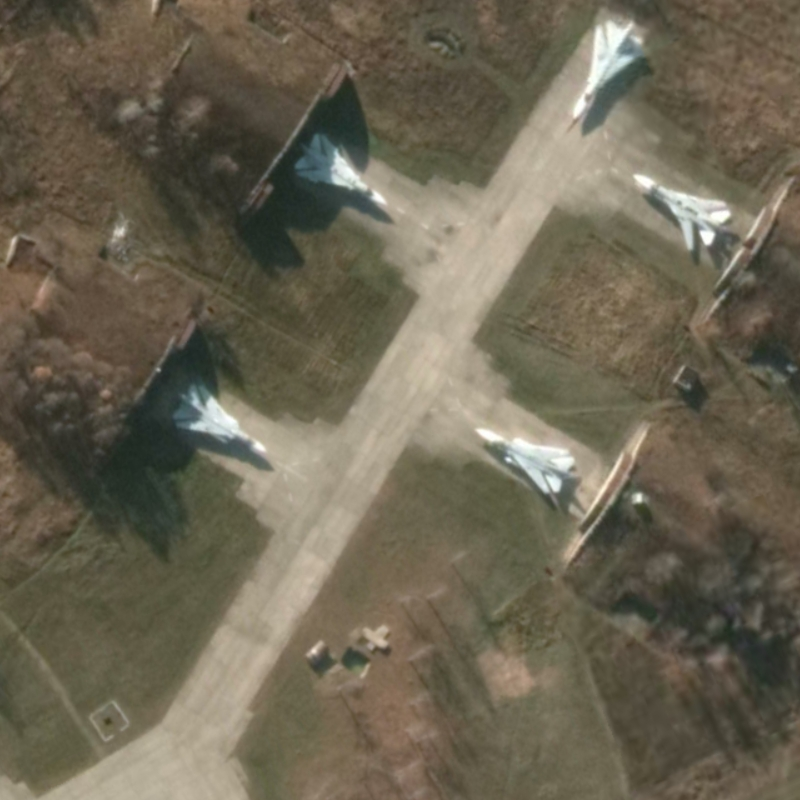A20: (631, 172, 733, 252), (570, 17, 647, 121), (292, 131, 391, 208), (170, 382, 270, 456), (473, 426, 577, 497)
